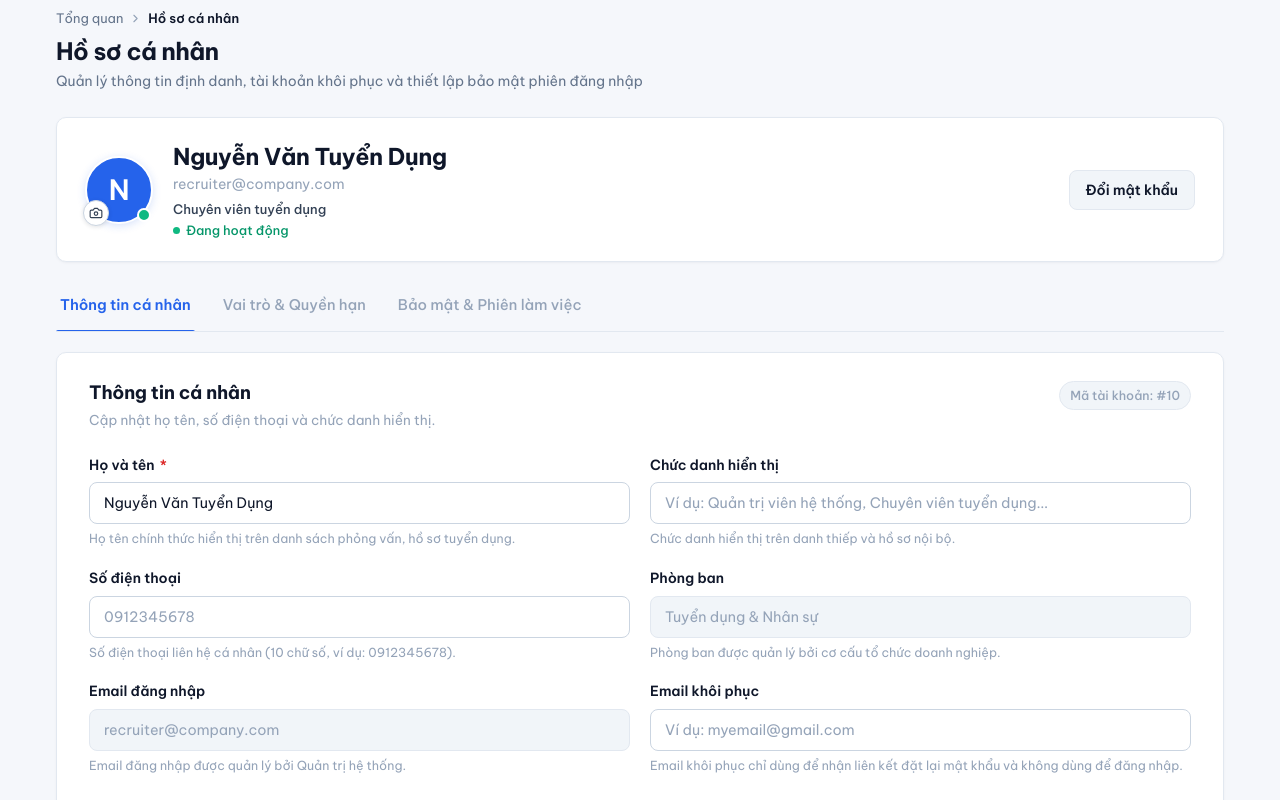
Test: ProfilePage Component (Personal User Profile) › shows client-side validation error if full name is too short
Step 1. Replace the text in the field labelled "Họ và tên *" with "A" → (360, 503), box x1=89 y1=482 x2=630 y2=524
(page scrolled)
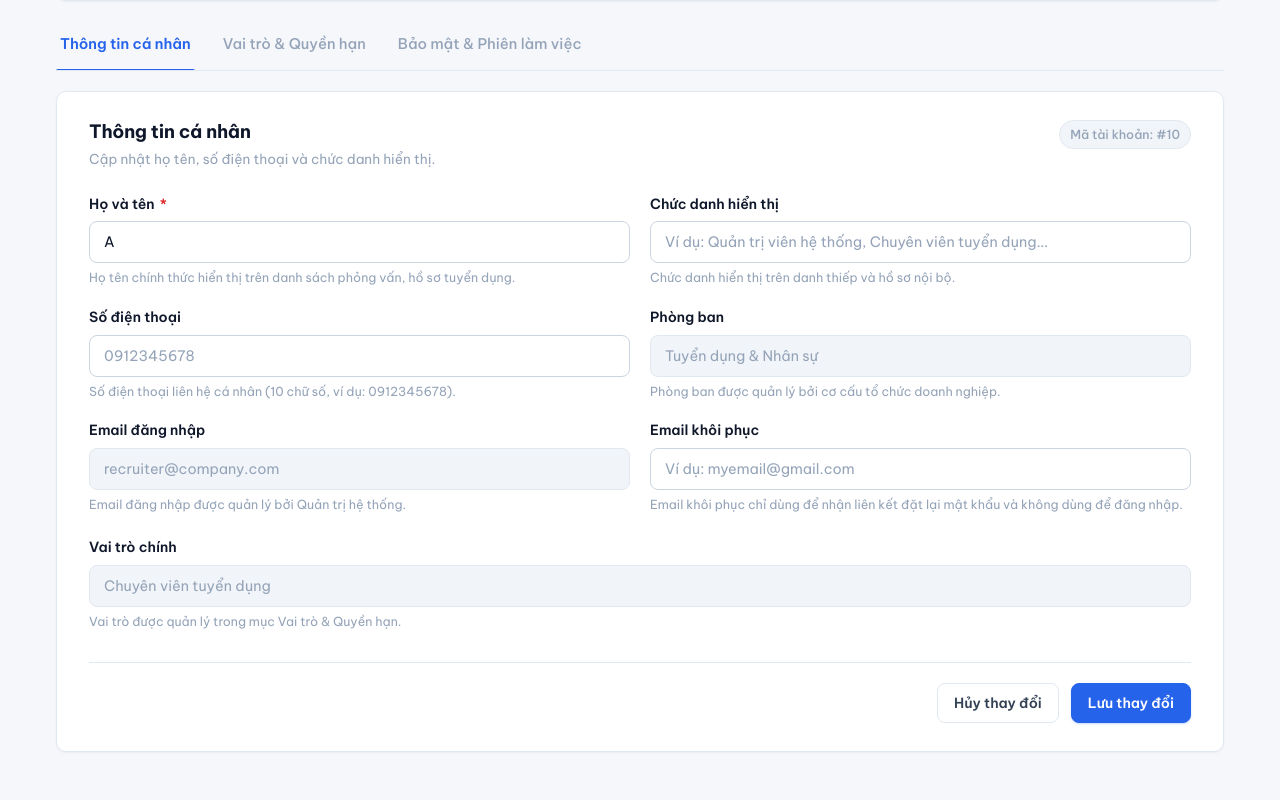
Step 2. Click the button "Lưu thay đổi" → (1131, 703), box x1=1071 y1=683 x2=1191 y2=723
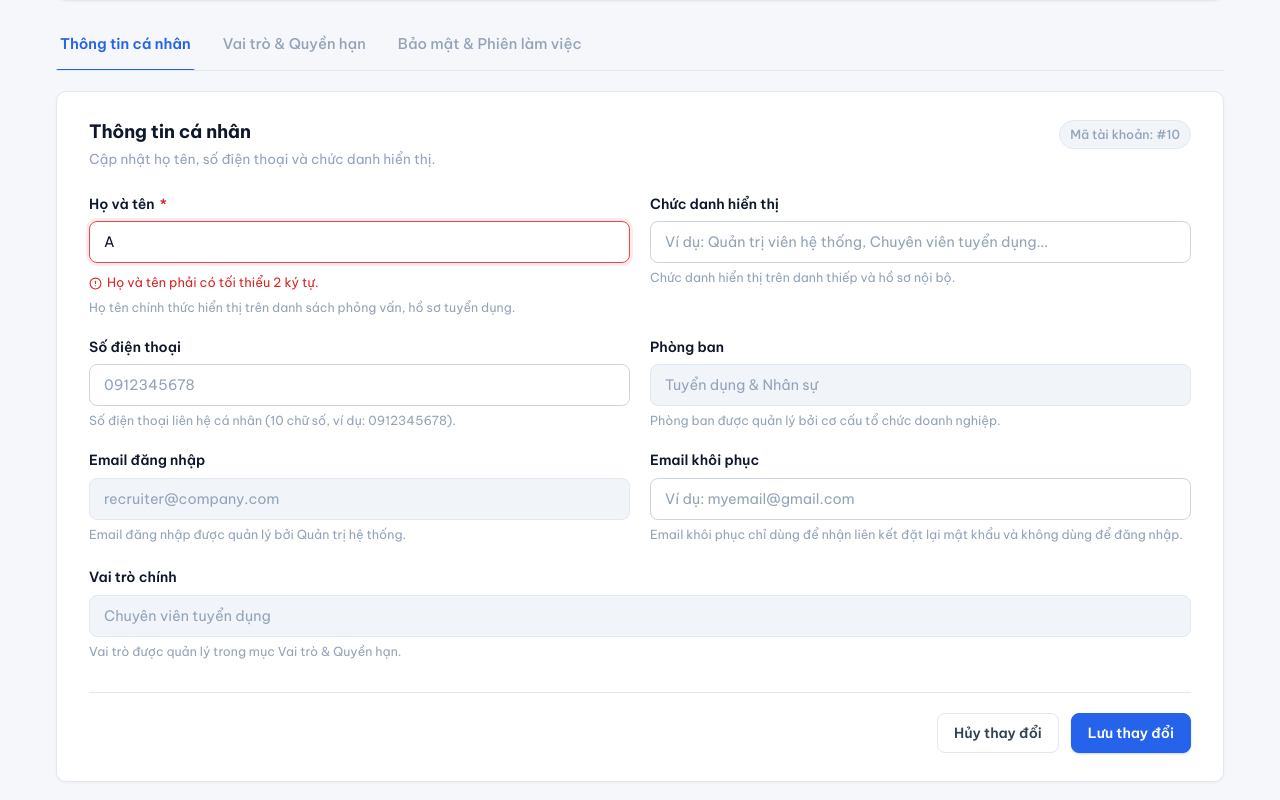
Expected: the text "Họ và tên phải có tối thiểu 2 ký tự." is shown, x1=107 y1=273 x2=319 y2=293
